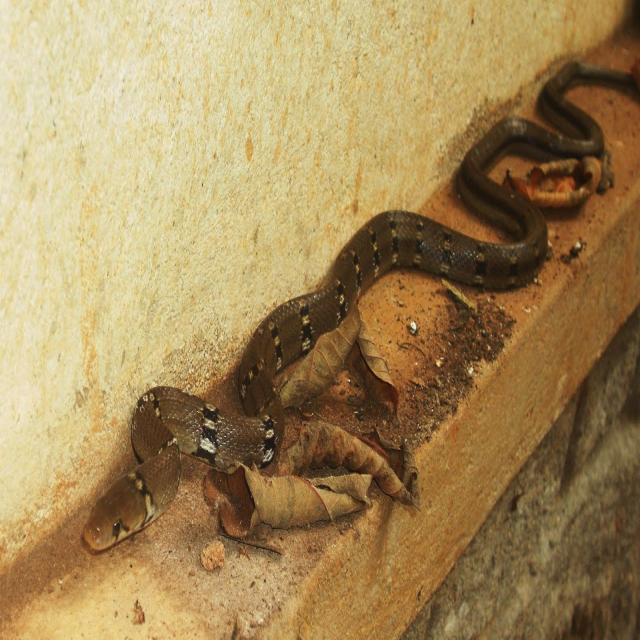Snake: (81, 58, 638, 554)
